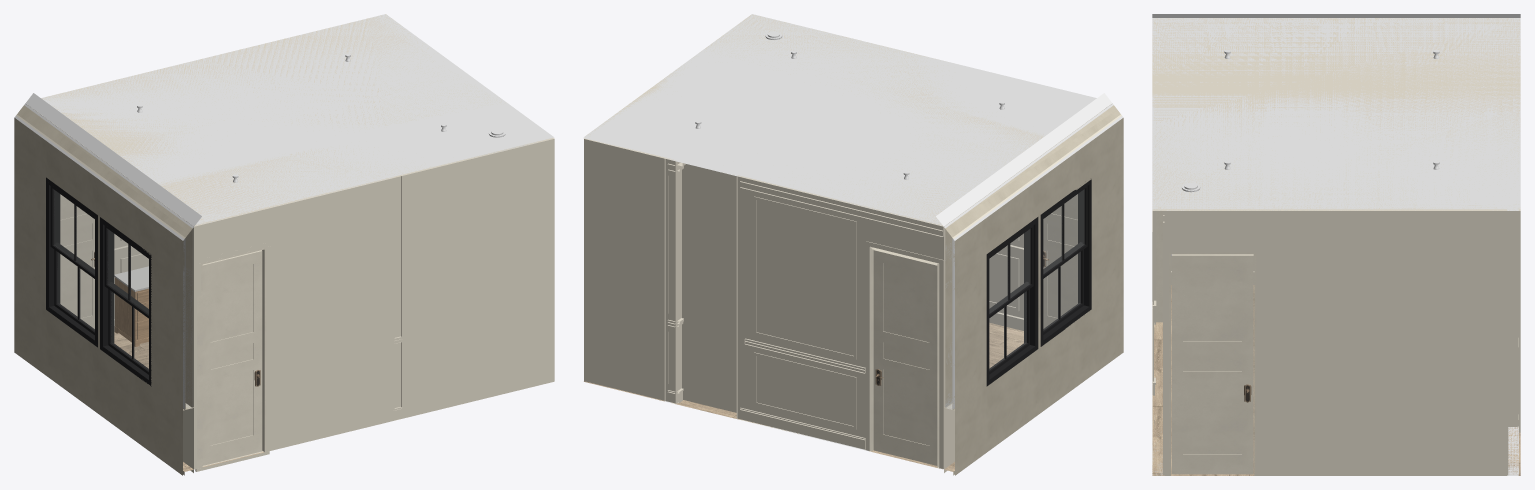
File: green-bedroom-9b1080d39448.glb
3 views of the same model, side by side, from view 1: azimuth 30°, elevation 25°; view 2: azimuth 150°, elevation 25°; view 3: azimuth 270°, elevation 25° (orthographic). The views are drawn at different scales.
Visible parts, largest first — view 1: green-bedroom-eb02897c2e79e2b1, green-bedroom-9d91b47435c6fb33, green-bedroom-e8793759323e04f0, green-bedroom-312b4ac1be39223d, green-bedroom-7406100458e293ce, green-bedroom-33ee0b466567e5f0, green-bedroom-eea30be35ce76d8a, green-bedroom-b27266f3159d5f34, green-bedroom-5e646f76b0244fe8, green-bedroom-39b94aca90fa4b53, green-bedroom-3a4d9d62ecd7be1c, green-bedroom-442e5a19ed849720 (+5 smaller); view 2: green-bedroom-9d91b47435c6fb33, green-bedroom-b6ab44e8ab2b63f4, green-bedroom-8d8280a2b3ef8b4c, green-bedroom-312b4ac1be39223d, green-bedroom-689020e0fc226264, green-bedroom-5e646f76b0244fe8, green-bedroom-33ee0b466567e5f0, green-bedroom-e8793759323e04f0, green-bedroom-eea30be35ce76d8a, green-bedroom-b27266f3159d5f34, green-bedroom-7406100458e293ce, green-bedroom-4fe5579be934d30a (+9 smaller); view 3: green-bedroom-64efeecf845bccca, green-bedroom-9d91b47435c6fb33, green-bedroom-e8793759323e04f0, green-bedroom-b50904fb6ee0544e, green-bedroom-2575515a05775d9e, green-bedroom-689020e0fc226264, green-bedroom-34287d1b870c745c, green-bedroom-eb02897c2e79e2b1, green-bedroom-442e5a19ed849720, green-bedroom-8d8280a2b3ef8b4c, green-bedroom-4fe5579be934d30a.
Part boxes in pixels (bbox=[...]): green-bedroom-eb02897c2e79e2b1: bbox=[188, 139, 554, 469]; green-bedroom-9d91b47435c6fb33: bbox=[25, 14, 554, 226]; green-bedroom-e8793759323e04f0: bbox=[27, 14, 537, 224]; green-bedroom-312b4ac1be39223d: bbox=[14, 116, 184, 409]; green-bedroom-7406100458e293ce: bbox=[202, 250, 262, 465]; green-bedroom-33ee0b466567e5f0: bbox=[14, 287, 193, 475]; green-bedroom-eea30be35ce76d8a: bbox=[46, 177, 97, 347]; green-bedroom-b27266f3159d5f34: bbox=[100, 217, 151, 386]; green-bedroom-5e646f76b0244fe8: bbox=[60, 194, 94, 328]; green-bedroom-39b94aca90fa4b53: bbox=[17, 105, 192, 409]; green-bedroom-3a4d9d62ecd7be1c: bbox=[24, 103, 193, 407]; green-bedroom-442e5a19ed849720: bbox=[201, 247, 266, 467]; green-bedroom-9d91b47435c6fb33: bbox=[583, 14, 1112, 226]; green-bedroom-b6ab44e8ab2b63f4: bbox=[736, 176, 949, 469]; green-bedroom-8d8280a2b3ef8b4c: bbox=[584, 138, 681, 403]; green-bedroom-312b4ac1be39223d: bbox=[953, 116, 1123, 409]; green-bedroom-689020e0fc226264: bbox=[676, 160, 737, 418]; green-bedroom-5e646f76b0244fe8: bbox=[873, 250, 937, 465]; green-bedroom-33ee0b466567e5f0: bbox=[944, 287, 1123, 475]; green-bedroom-e8793759323e04f0: bbox=[585, 14, 1110, 224]; green-bedroom-eea30be35ce76d8a: bbox=[986, 217, 1038, 386]; green-bedroom-b27266f3159d5f34: bbox=[1040, 179, 1091, 346]; green-bedroom-7406100458e293ce: bbox=[1043, 194, 1077, 328]; green-bedroom-4fe5579be934d30a: bbox=[664, 158, 676, 403]; green-bedroom-64efeecf845bccca: bbox=[1164, 209, 1508, 475]; green-bedroom-9d91b47435c6fb33: bbox=[1152, 18, 1520, 210]; green-bedroom-e8793759323e04f0: bbox=[1152, 14, 1520, 209]; green-bedroom-b50904fb6ee0544e: bbox=[1171, 254, 1253, 474]; green-bedroom-2575515a05775d9e: bbox=[1152, 285, 1520, 475]; green-bedroom-689020e0fc226264: bbox=[1508, 211, 1518, 426]; green-bedroom-34287d1b870c745c: bbox=[1169, 252, 1256, 475]; green-bedroom-eb02897c2e79e2b1: bbox=[1152, 209, 1164, 475]; green-bedroom-442e5a19ed849720: bbox=[1156, 211, 1162, 322]; green-bedroom-8d8280a2b3ef8b4c: bbox=[1507, 209, 1518, 475]; green-bedroom-4fe5579be934d30a: bbox=[1519, 211, 1520, 432].
Bounding box in the file's own units: 4.64 × 3.04 × 3.65.
33 materials, 8 textured.
